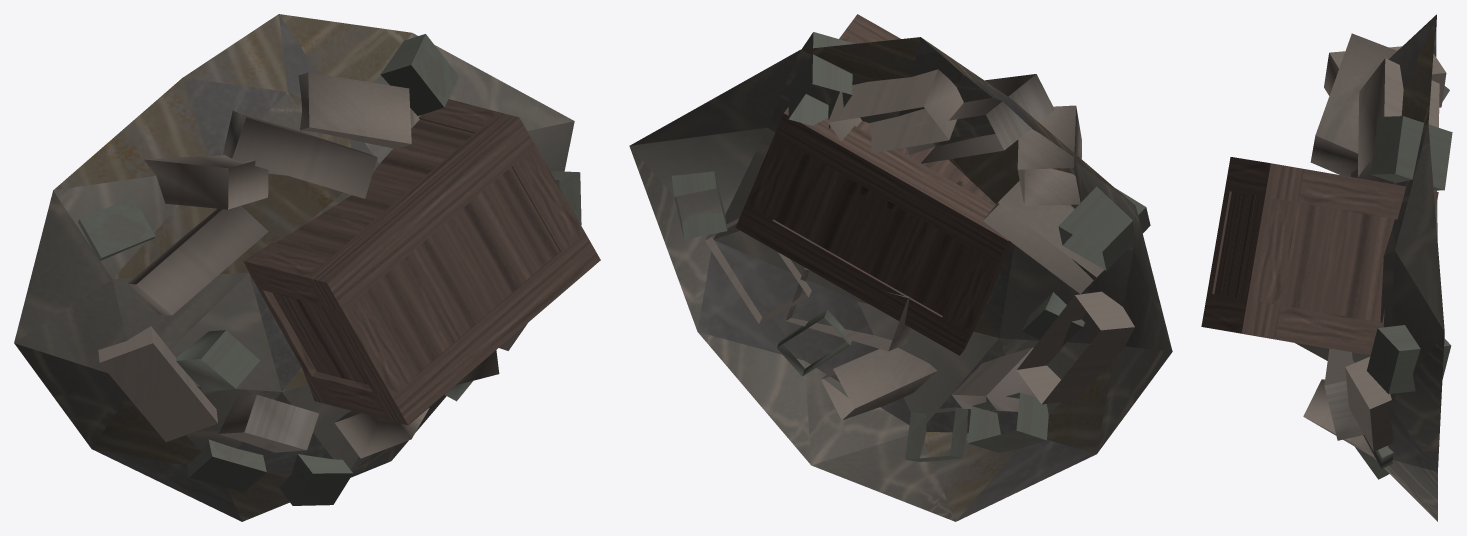
The model's file is BoxDebrisA01.fbx.
3 renders of one model, left to right at view 1: azimuth 30°, elevation 25°; view 2: azimuth 150°, elevation 25°; view 3: azimuth 270°, elevation 25°, orthographic. The views are drawn at different scales.
Parts seen in each view (by area): view 1: BoxDebrisA01; view 2: BoxDebrisA01; view 3: BoxDebrisA01.
Boxes of the visible parts, bbox=[...] form: BoxDebrisA01: bbox=[14, 14, 600, 521]; BoxDebrisA01: bbox=[629, 14, 1172, 521]; BoxDebrisA01: bbox=[1201, 14, 1452, 521].
Size of the model in its own units: 294 by 248 by 120.
